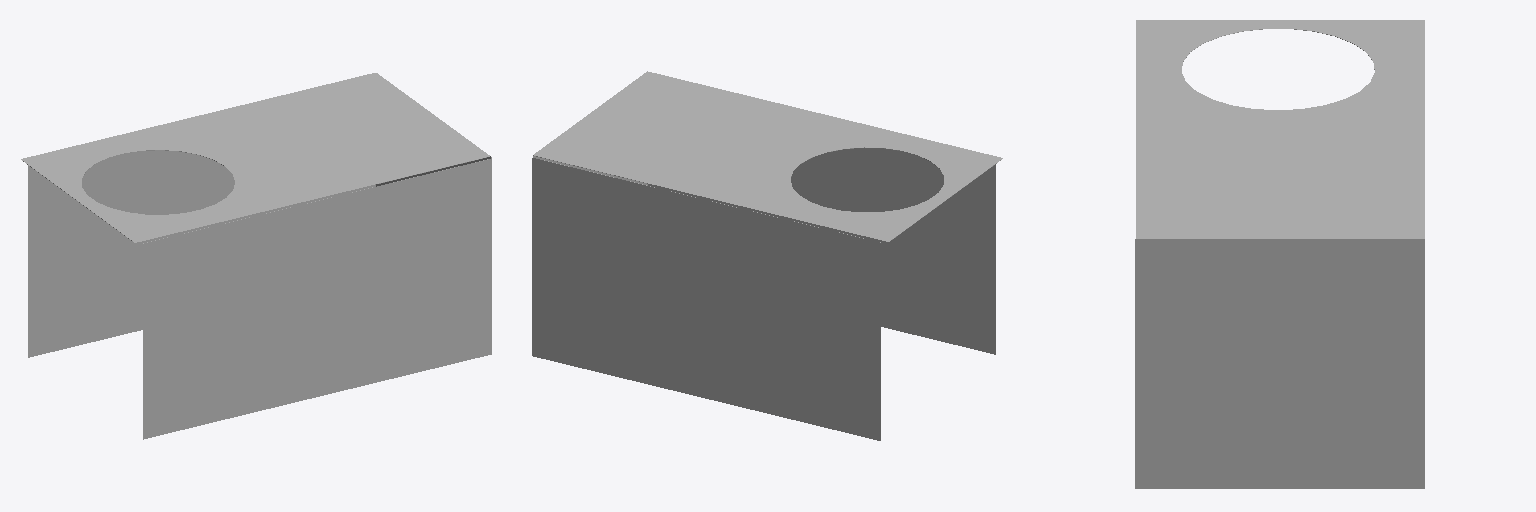
URDF robot description (zhaoke):
<?xml version="1.0" encoding="utf-8"?>
<!-- This URDF was automatically created by SolidWorks to URDF Exporter! Originally created by [author] ([email redacted]) 
     Commit Version: 1.6.0-1-g15f4949  Build Version: 1.6.7594.29634
     For more information, please see http://wiki.ros.org/sw_urdf_exporter -->
<robot
  name="zhaoke">
  <link
    name="base_zhaoke">
    <inertial>
      <origin
        xyz="0.902096483108737 0.00221579743935874 0.738876595882771"
        rpy="0 0 0" />
      <mass
        value="160.471969142295" />
      <inertia
        ixx="82.0762274131818"
        ixy="0.283318974191357"
        ixz="2.20352560747043"
        iyy="119.252982248079"
        iyz="0.22742646590216"
        izz="143.483503270804" />
    </inertial>
    <visual>
      <origin
        xyz="0 0 0"
        rpy="0 0 0" />
      <geometry>
        <mesh
          filename="package://zhaoke/meshes/base_zhaoke.STL" />
      </geometry>
      <material
        name="">
        <color
          rgba="0.752941176470588 0.752941176470588 0.752941176470588 1" />
      </material>
    </visual>
    <collision>
      <origin
        xyz="0 0 0"
        rpy="0 0 0" />
      <geometry>
        <mesh
          filename="package://zhaoke/meshes/base_zhaoke.STL" />
      </geometry>
    </collision>
  </link>
</robot>

--- Render facts (derived) ---
3 views of the same robot in one strip: view 1: azimuth 30°, elevation 25°; view 2: azimuth 150°, elevation 25°; view 3: azimuth 270°, elevation 25° (orthographic).
Robot: zhaoke — 1 links, 0 joints (none); root link base_zhaoke; default pose: every joint at zero.
Visible links, largest first — view 1: base_zhaoke; view 2: base_zhaoke; view 3: base_zhaoke.
Link boxes in pixels (x1,y1,x2,y2): base_zhaoke: [21, 73, 491, 439]; base_zhaoke: [532, 71, 1002, 440]; base_zhaoke: [1135, 20, 1424, 488].
Size in the robot's own frame: 2.4 by 1.35 by 1.29 metres.
1 mesh visuals loaded from 1 distinct referenced files (1 binary STL).
